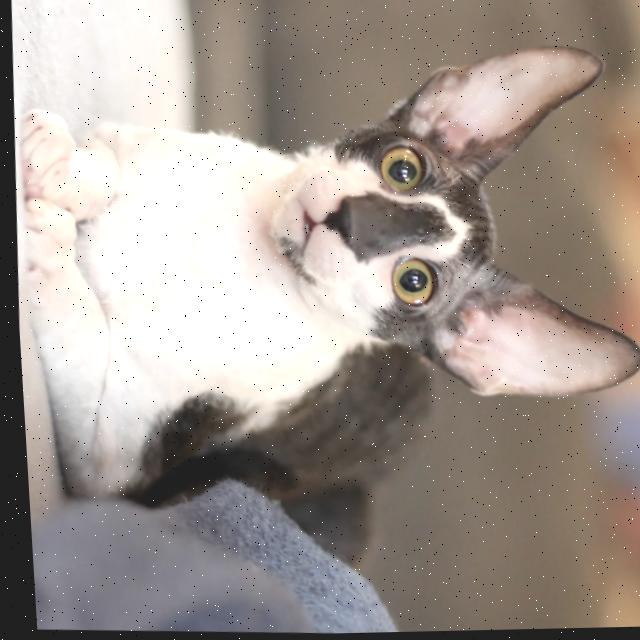Cornish Rex: (2, 23, 640, 590)
